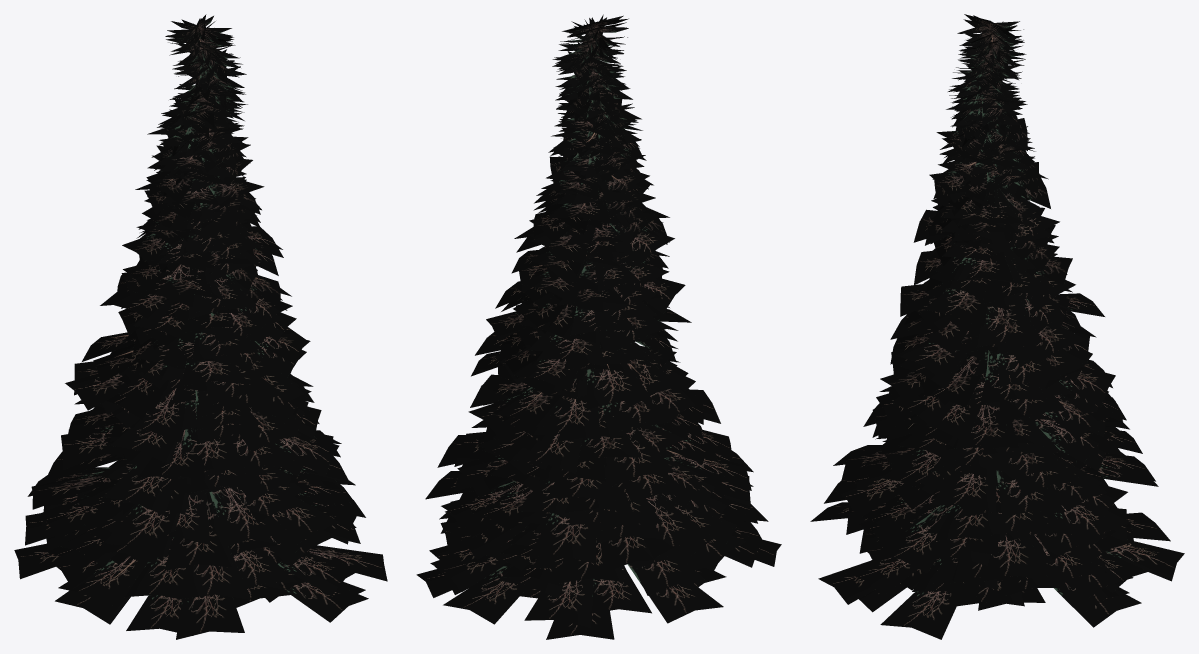
The model's file is Random Trees.005.fbx.
The picture shows the model from 3 angles, left to right: view 1: azimuth 30°, elevation 25°; view 2: azimuth 150°, elevation 25°; view 3: azimuth 270°, elevation 25°; orthographic projection.
Parts seen in each view (by area): view 1: Random Trees.005; view 2: Random Trees.005; view 3: Random Trees.005.
Boxes of the visible parts, x1,y1,x2,y2 form: Random Trees.005: (14, 14, 387, 639); Random Trees.005: (416, 14, 781, 639); Random Trees.005: (810, 14, 1184, 639).
Bounding box in the file's own units: 4323 × 7121 × 4448.
